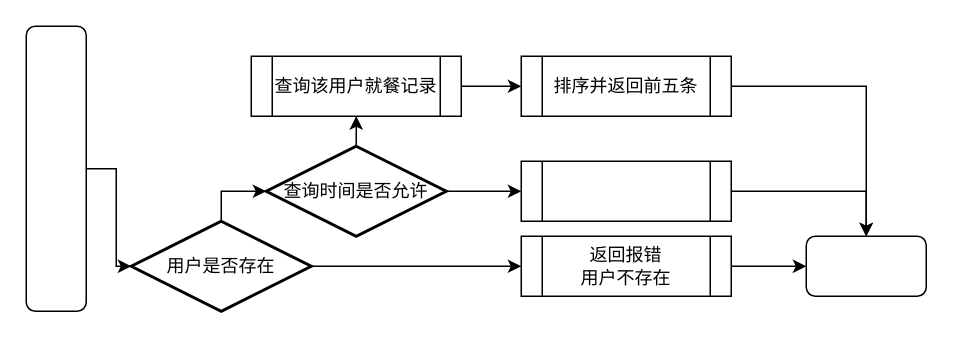
This 953x339 diagram has some shape labels left out. Each missing label, with the centre of its shape:
end: the point at 865,265
购买记录查询: the point at 55,168
返回报错 查询时间段不允许: the point at 625,190
